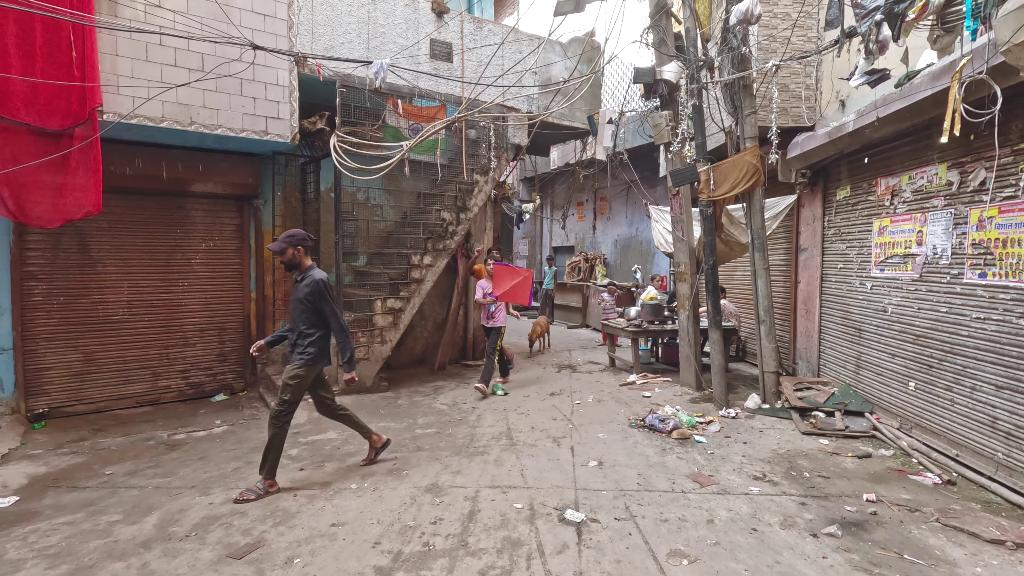garbage: (625, 403, 726, 449), (617, 369, 675, 393), (815, 516, 848, 541), (561, 501, 589, 529), (739, 389, 773, 411), (715, 395, 741, 422), (489, 381, 511, 403), (864, 489, 877, 507)
